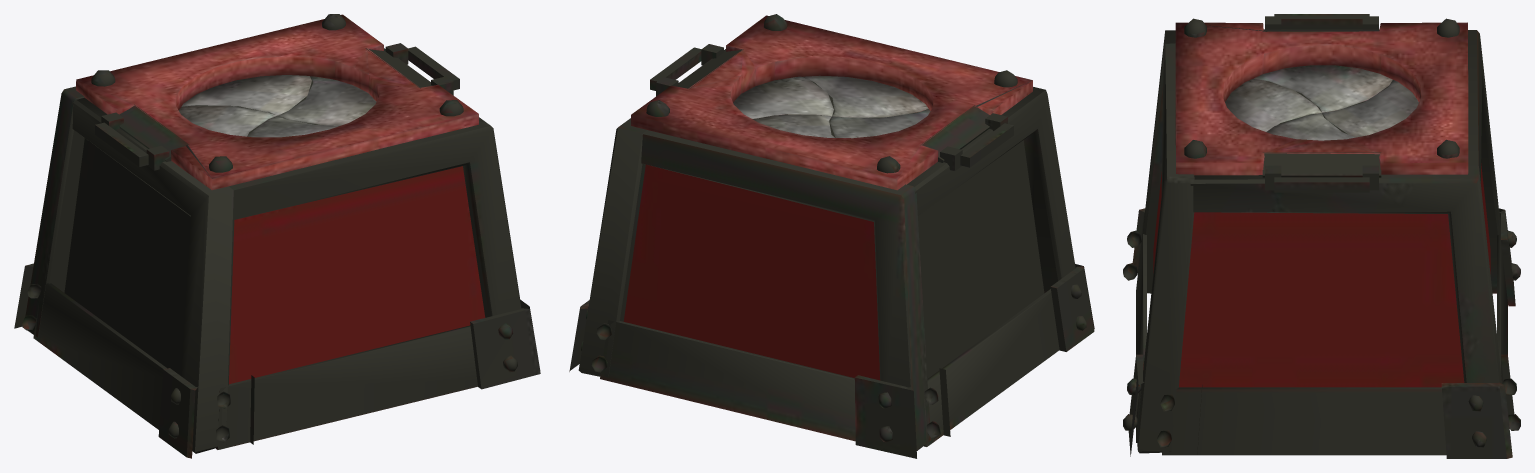
Rendered from passive-provider-chest.glb.
The picture shows the model from 3 angles, left to right: view 1: azimuth 30°, elevation 25°; view 2: azimuth 150°, elevation 25°; view 3: azimuth 270°, elevation 25°; orthographic projection. The views are drawn at different scales.
Visible parts, largest first — view 1: body; view 2: body; view 3: body.
Boxes of the visible parts, bbox=[...] form: body: bbox=[14, 14, 540, 458]; body: bbox=[569, 14, 1094, 458]; body: bbox=[1123, 14, 1520, 458].
Size of the model in its own units: 1.02 by 0.7135 by 0.9.
Materials: 1 (1 with a texture image).
